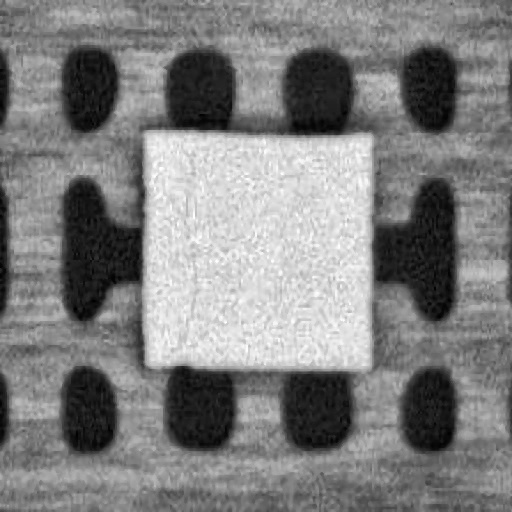DIE_CRACK: (164, 191, 196, 353)
